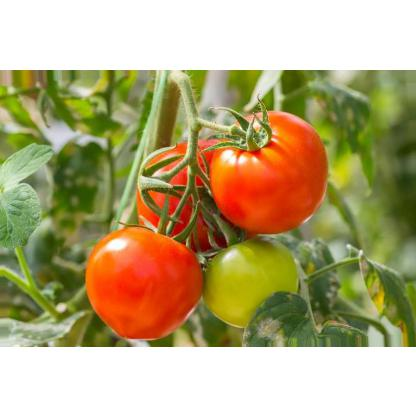tomato: (128, 130, 272, 274), (202, 102, 338, 238), (78, 220, 210, 344), (197, 233, 306, 330)
